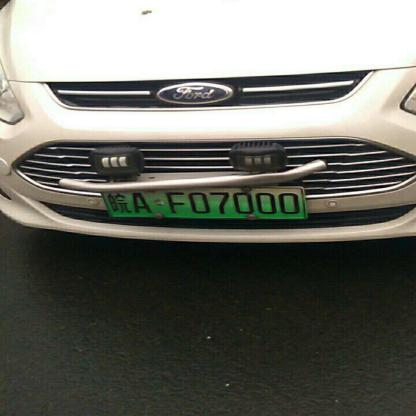lp: (100, 188, 304, 218)
